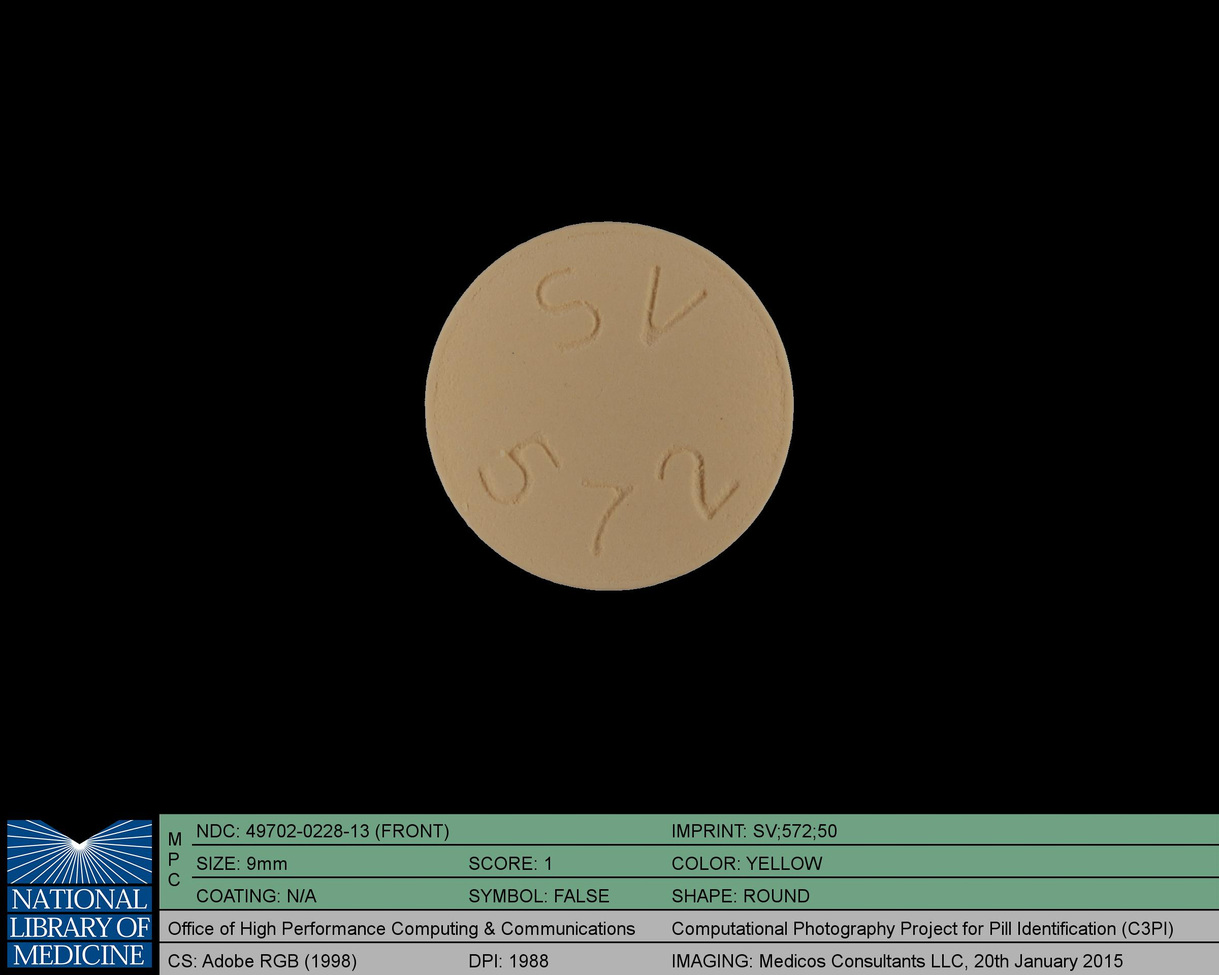Pill: (411, 208, 804, 601)
